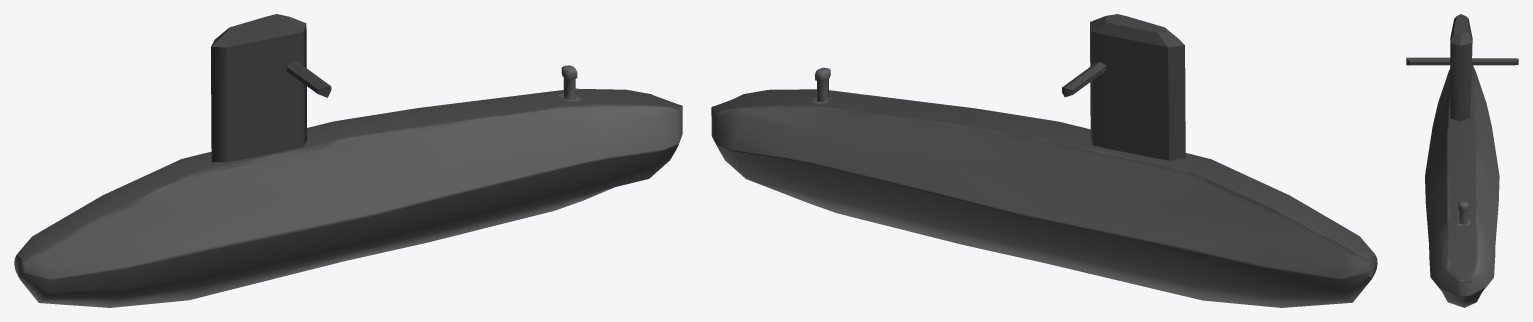
File: 1980tijgerhaaisubmarine - kopie.fbx
3 views of the same model, side by side, from view 1: azimuth 30°, elevation 25°; view 2: azimuth 150°, elevation 25°; view 3: azimuth 270°, elevation 25° (orthographic). The views are drawn at different scales.
Visible parts, largest first — view 1: subbase, subtop; view 2: subbase, subtop; view 3: subbase, subtop.
Boxes of the visible parts, <box> form: subbase: <box>14,65,682,307</box>; subtop: <box>211,14,331,162</box>; subbase: <box>711,67,1377,307</box>; subtop: <box>1062,14,1185,160</box>; subbase: <box>1425,65,1499,307</box>; subtop: <box>1406,14,1518,121</box>.
Bounding box in the file's own units: 67.17 × 25.38 × 15.11.
2 materials, 2 textured.
